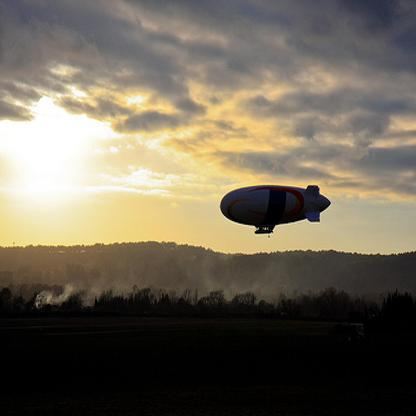Airship: (218, 178, 333, 242)
